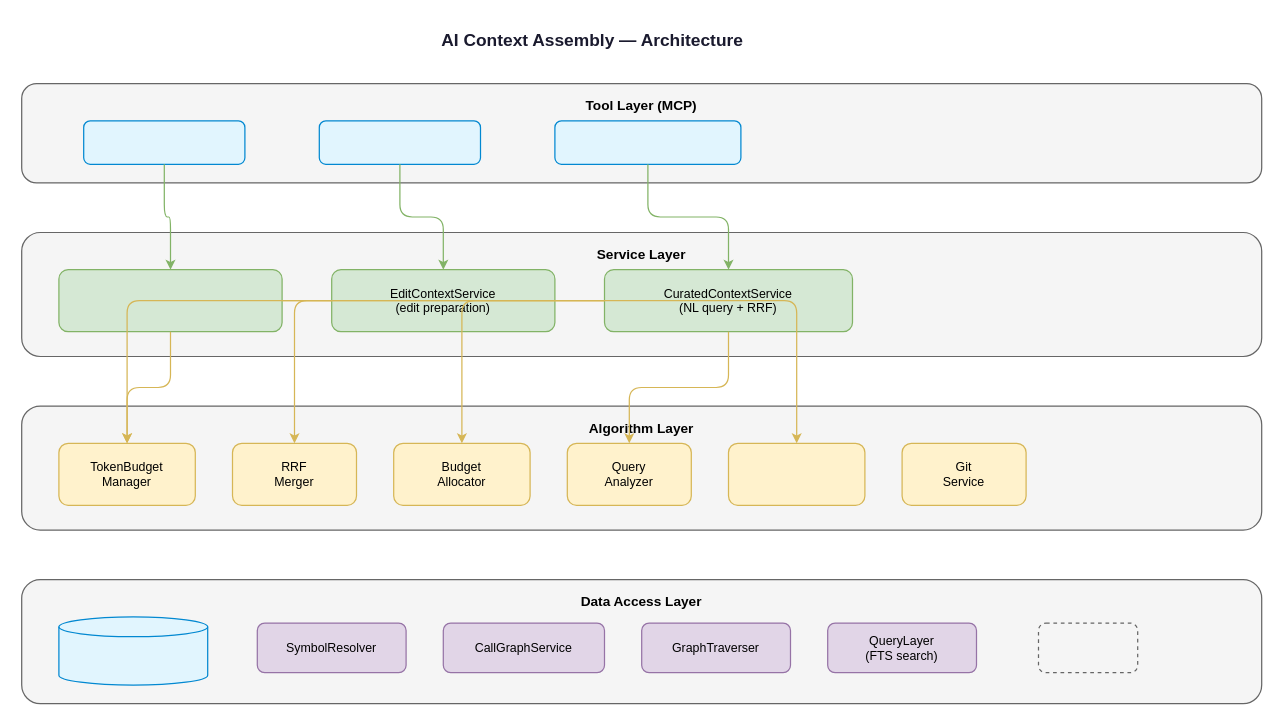
The diagram is 1283 pixels wide and 725 high, and some of its shapes have lost their labels. Here are the shapes that lost their labels. From the top down, the centre of each, then its label:
At pixel 163 142: "get_ai_context".
At pixel 399 142: "get_edit_context".
At pixel 647 142: "get_curated_context".
At pixel 170 300: "AIContextService (intent-aware assembly)".
At pixel 796 473: "Intent Strategies".
At pixel 133 650: "SQLite DB (better-sqlite3)".
At pixel 1087 647: "Git CLI".
